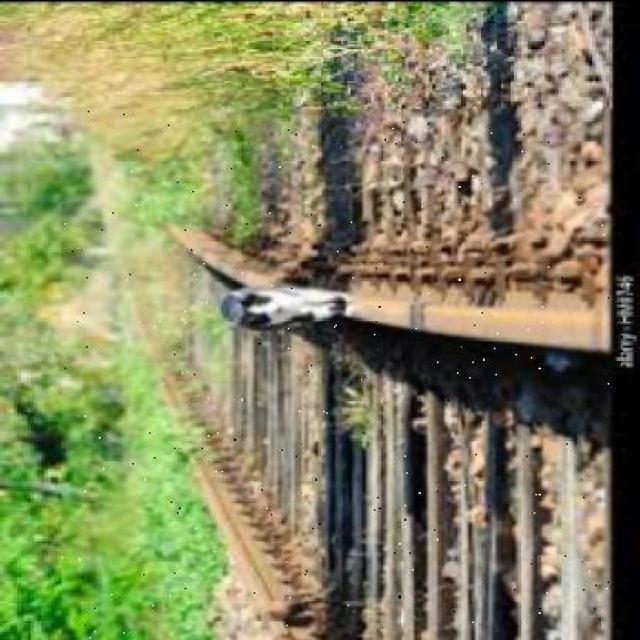danger: (216, 263, 355, 337)
rail: (63, 108, 614, 640)
